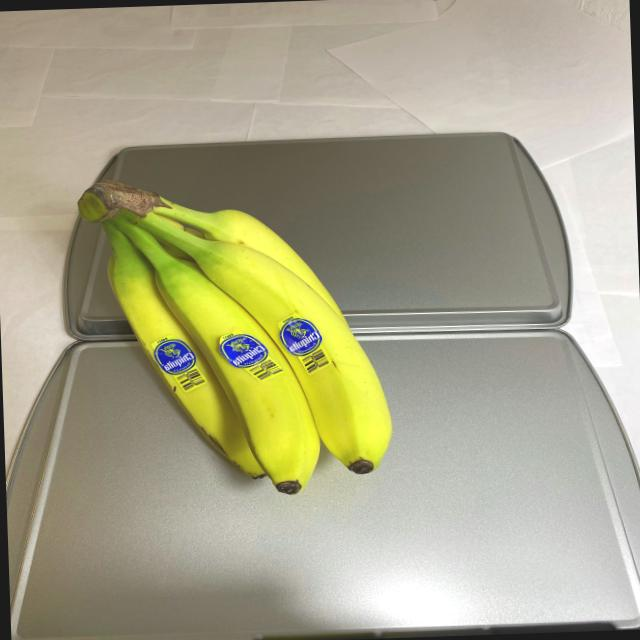banana: (65, 166, 399, 508)
